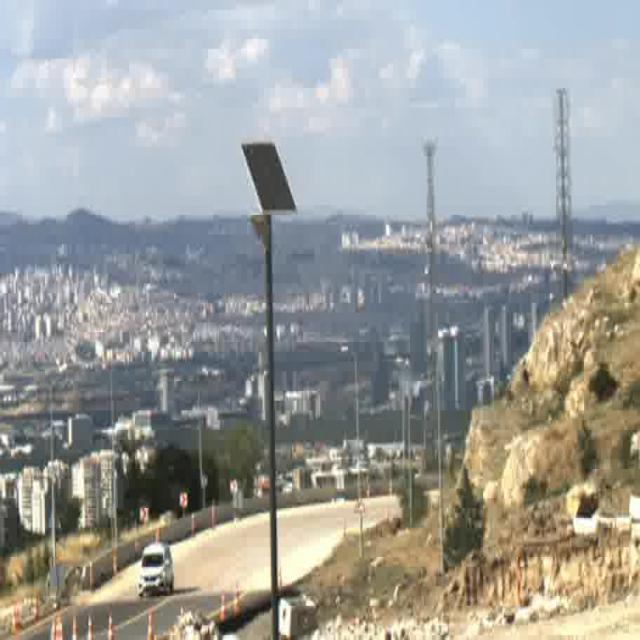Car: (138, 543, 174, 595)
